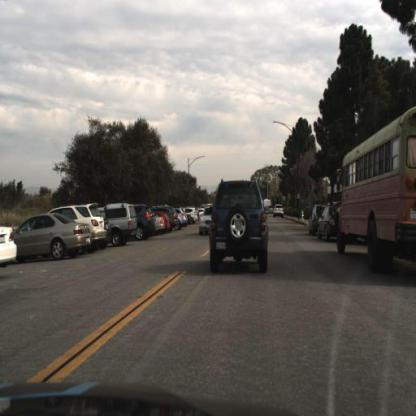car: (206, 179, 276, 275), (11, 215, 91, 262), (78, 204, 108, 252), (104, 203, 134, 243), (88, 202, 109, 249), (318, 201, 338, 246), (136, 205, 154, 239), (198, 205, 214, 240), (308, 201, 321, 239), (152, 213, 168, 238), (178, 206, 191, 233), (170, 202, 180, 236), (273, 200, 287, 222), (186, 203, 198, 227), (164, 212, 172, 235)
truck: (338, 105, 416, 268)
